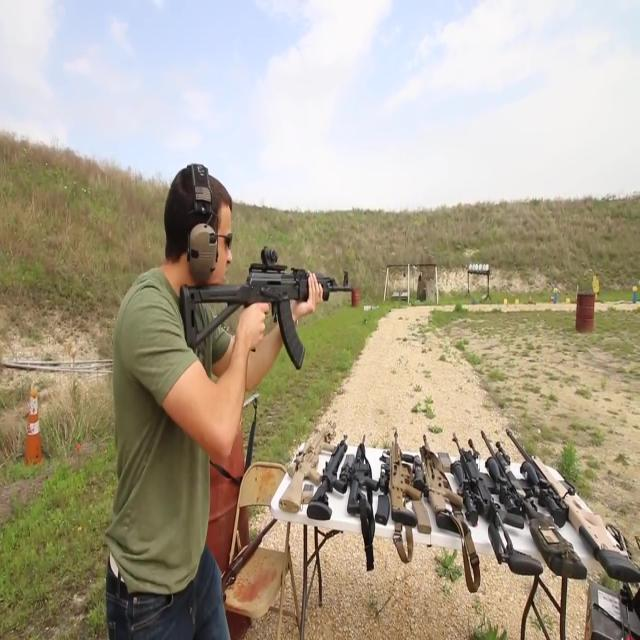Weapon: (275, 408, 640, 618), (140, 238, 353, 377), (179, 443, 289, 636)
